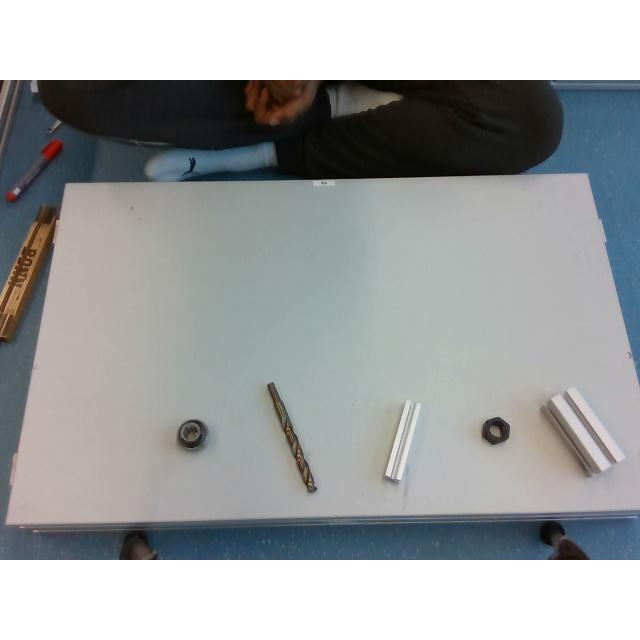Bearing2: (177, 419, 207, 449)
Drill: (267, 382, 317, 492)
F20_20_G: (384, 400, 420, 480)
M20: (482, 416, 510, 444)
S40_40_G: (544, 386, 624, 474)
